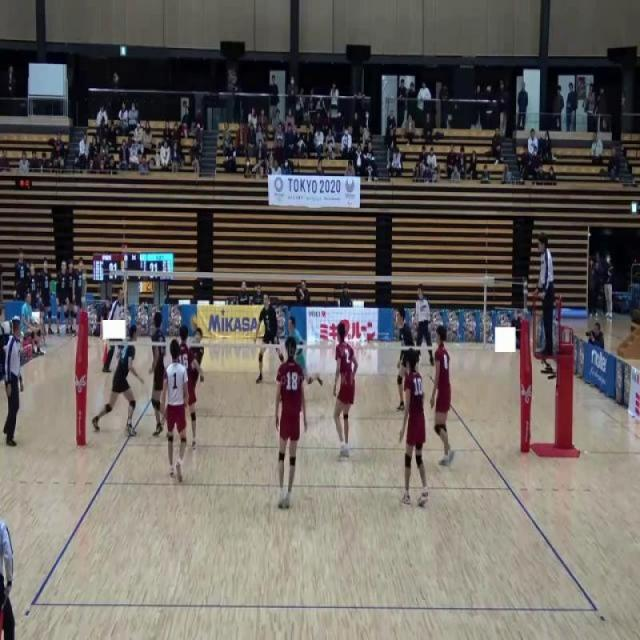volleyball: (190, 314, 198, 329)
